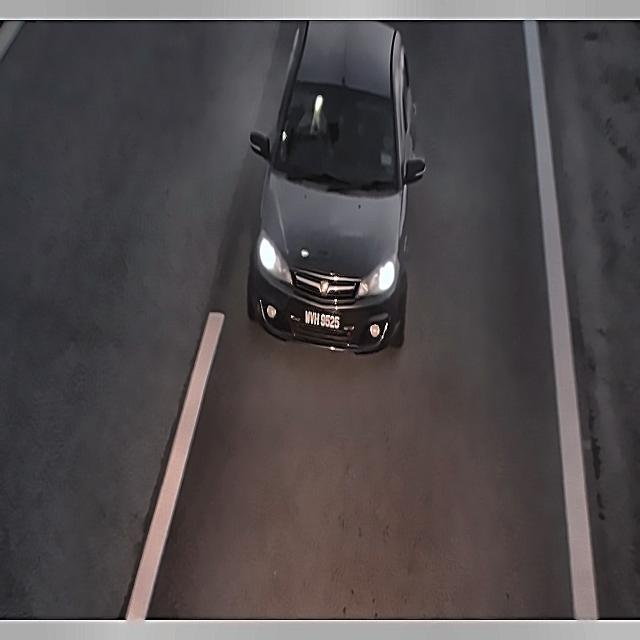car: (298, 305, 347, 343)
